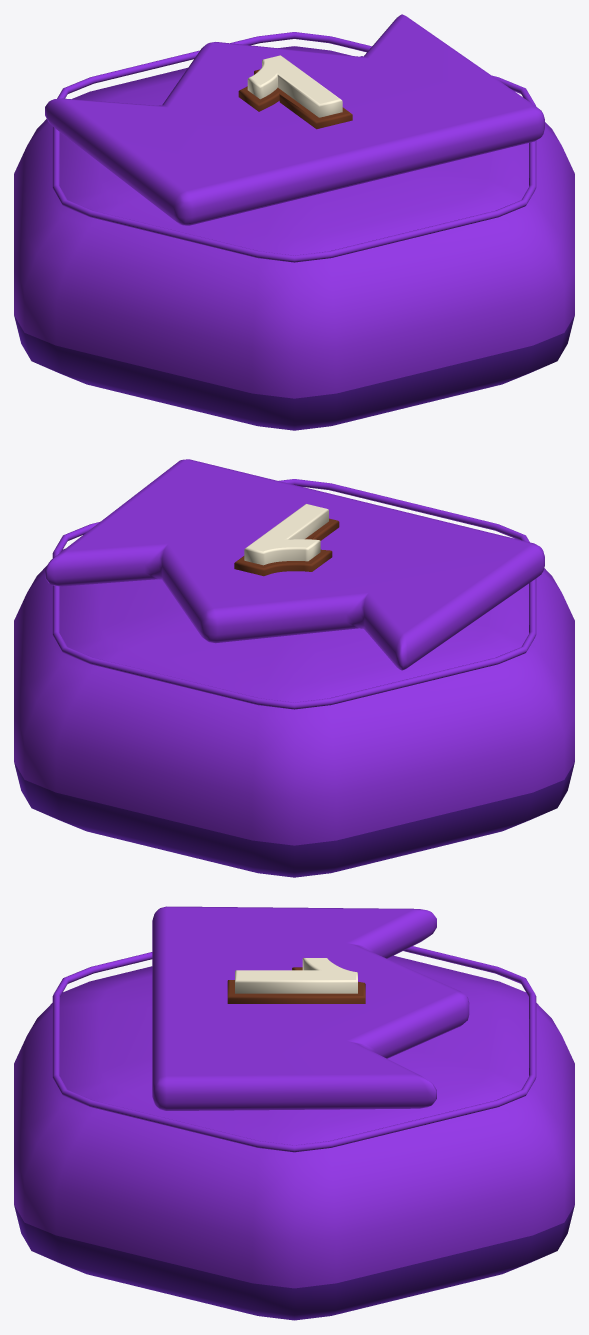
File: HexStone_01_Purple.fbx
The picture shows the model from 3 angles, top to bottom: view 1: azimuth 30°, elevation 25°; view 2: azimuth 150°, elevation 25°; view 3: azimuth 270°, elevation 25°; orthographic projection.
Parts seen in each view (by area): view 1: HX_V03_Purple_Body, HX_ToneRelief_01, HX_V03_Purple_InnerRim, HX_V03_Digit_1_Face, HX_V03_Digit_1_Outline; view 2: HX_V03_Purple_Body, HX_ToneRelief_01, HX_V03_Purple_InnerRim, HX_V03_Digit_1_Face, HX_V03_Digit_1_Outline; view 3: HX_V03_Purple_Body, HX_ToneRelief_01, HX_V03_Purple_InnerRim, HX_V03_Digit_1_Face, HX_V03_Digit_1_Outline.
Boxes of the visible parts, bbox=[...] form: HX_V03_Purple_Body: bbox=[14, 46, 574, 430]; HX_ToneRelief_01: bbox=[45, 14, 544, 225]; HX_V03_Purple_InnerRim: bbox=[52, 32, 536, 262]; HX_V03_Digit_1_Face: bbox=[247, 55, 342, 117]; HX_V03_Digit_1_Outline: bbox=[238, 69, 352, 129]; HX_V03_Purple_Body: bbox=[14, 549, 574, 877]; HX_ToneRelief_01: bbox=[45, 459, 544, 670]; HX_V03_Purple_InnerRim: bbox=[52, 479, 536, 709]; HX_V03_Digit_1_Face: bbox=[244, 504, 328, 565]; HX_V03_Digit_1_Outline: bbox=[234, 518, 339, 576]; HX_V03_Purple_Body: bbox=[14, 955, 574, 1320]; HX_ToneRelief_01: bbox=[152, 906, 469, 1110]; HX_V03_Purple_InnerRim: bbox=[52, 946, 536, 1152]; HX_V03_Digit_1_Face: bbox=[235, 958, 357, 993]; HX_V03_Digit_1_Outline: bbox=[227, 967, 365, 1003].
Bounding box in the file's own units: 75.07 × 31.05 × 67.55.
